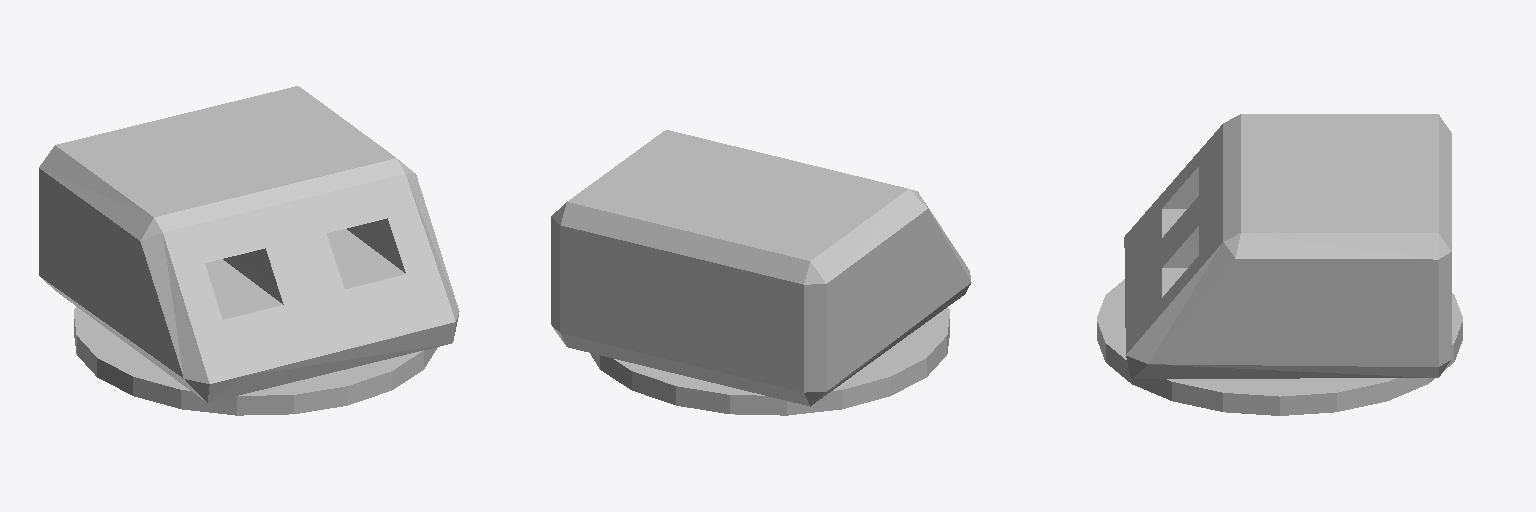
Rendered from houdai.obj.
3 views of the same model, side by side, from view 1: azimuth 30°, elevation 25°; view 2: azimuth 150°, elevation 25°; view 3: azimuth 270°, elevation 25° (orthographic).
Visible parts, largest first — view 1: group1 pCube1, pCylinder2 group1; view 2: group1 pCube1, pCylinder2 group1; view 3: group1 pCube1, pCylinder2 group1.
Part boxes in pixels (bbox=[...]): group1 pCube1: bbox=[39, 86, 459, 402]; pCylinder2 group1: bbox=[74, 306, 437, 415]; group1 pCube1: bbox=[551, 130, 971, 406]; pCylinder2 group1: bbox=[590, 307, 949, 415]; group1 pCube1: bbox=[1124, 114, 1451, 378]; pCylinder2 group1: bbox=[1097, 279, 1462, 415].
Size of the model in its own units: 1.04 by 0.5142 by 1.04.